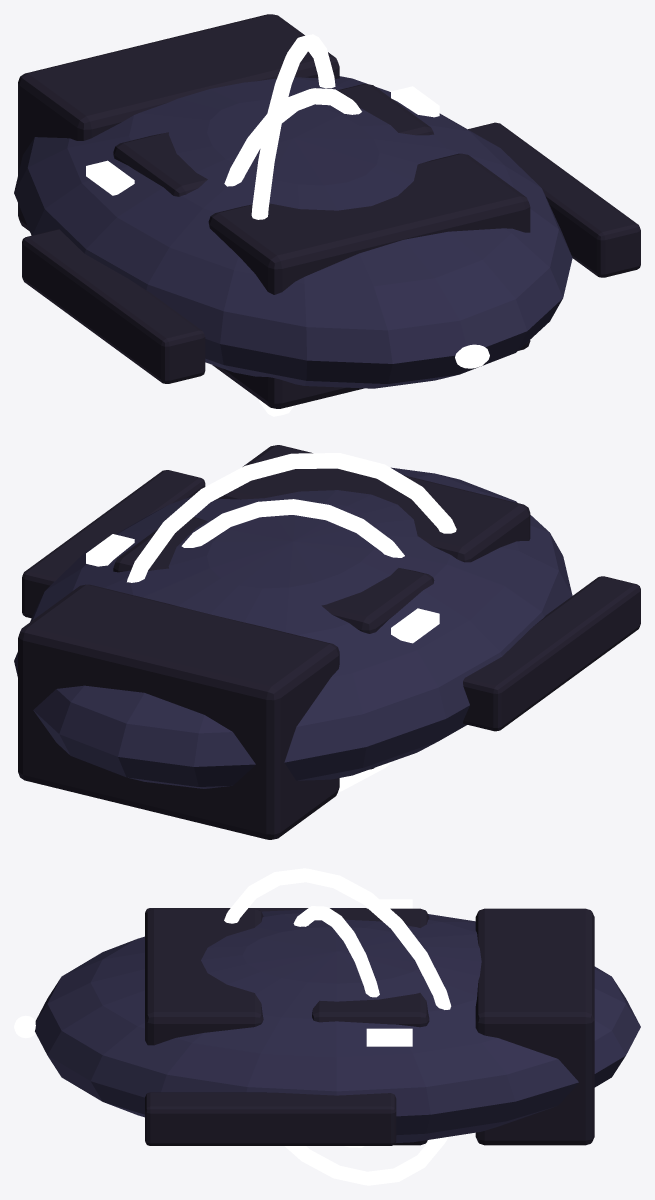
The picture shows the model from 3 angles, top to bottom: view 1: azimuth 30°, elevation 25°; view 2: azimuth 150°, elevation 25°; view 3: azimuth 270°, elevation 25°; orthographic projection. The views are drawn at different scales.
Parts seen in each view (by area): view 1: RIMWARD_HULL, RIMWARD_EMISSIVE, RIMWARD_ENGINE_GLOW; view 2: RIMWARD_HULL, RIMWARD_EMISSIVE; view 3: RIMWARD_HULL, RIMWARD_EMISSIVE.
Part boxes in pixels (x1,y1,x2,y2): RIMWARD_HULL: (14, 14, 640, 408); RIMWARD_EMISSIVE: (86, 34, 439, 416); RIMWARD_ENGINE_GLOW: (455, 344, 489, 368); RIMWARD_HULL: (14, 445, 640, 839); RIMWARD_EMISSIVE: (86, 453, 456, 791); RIMWARD_HULL: (35, 908, 640, 1145); RIMWARD_EMISSIVE: (224, 868, 451, 1185).
Size of the model in its own units: 61.71 by 43.01 by 80.58.
